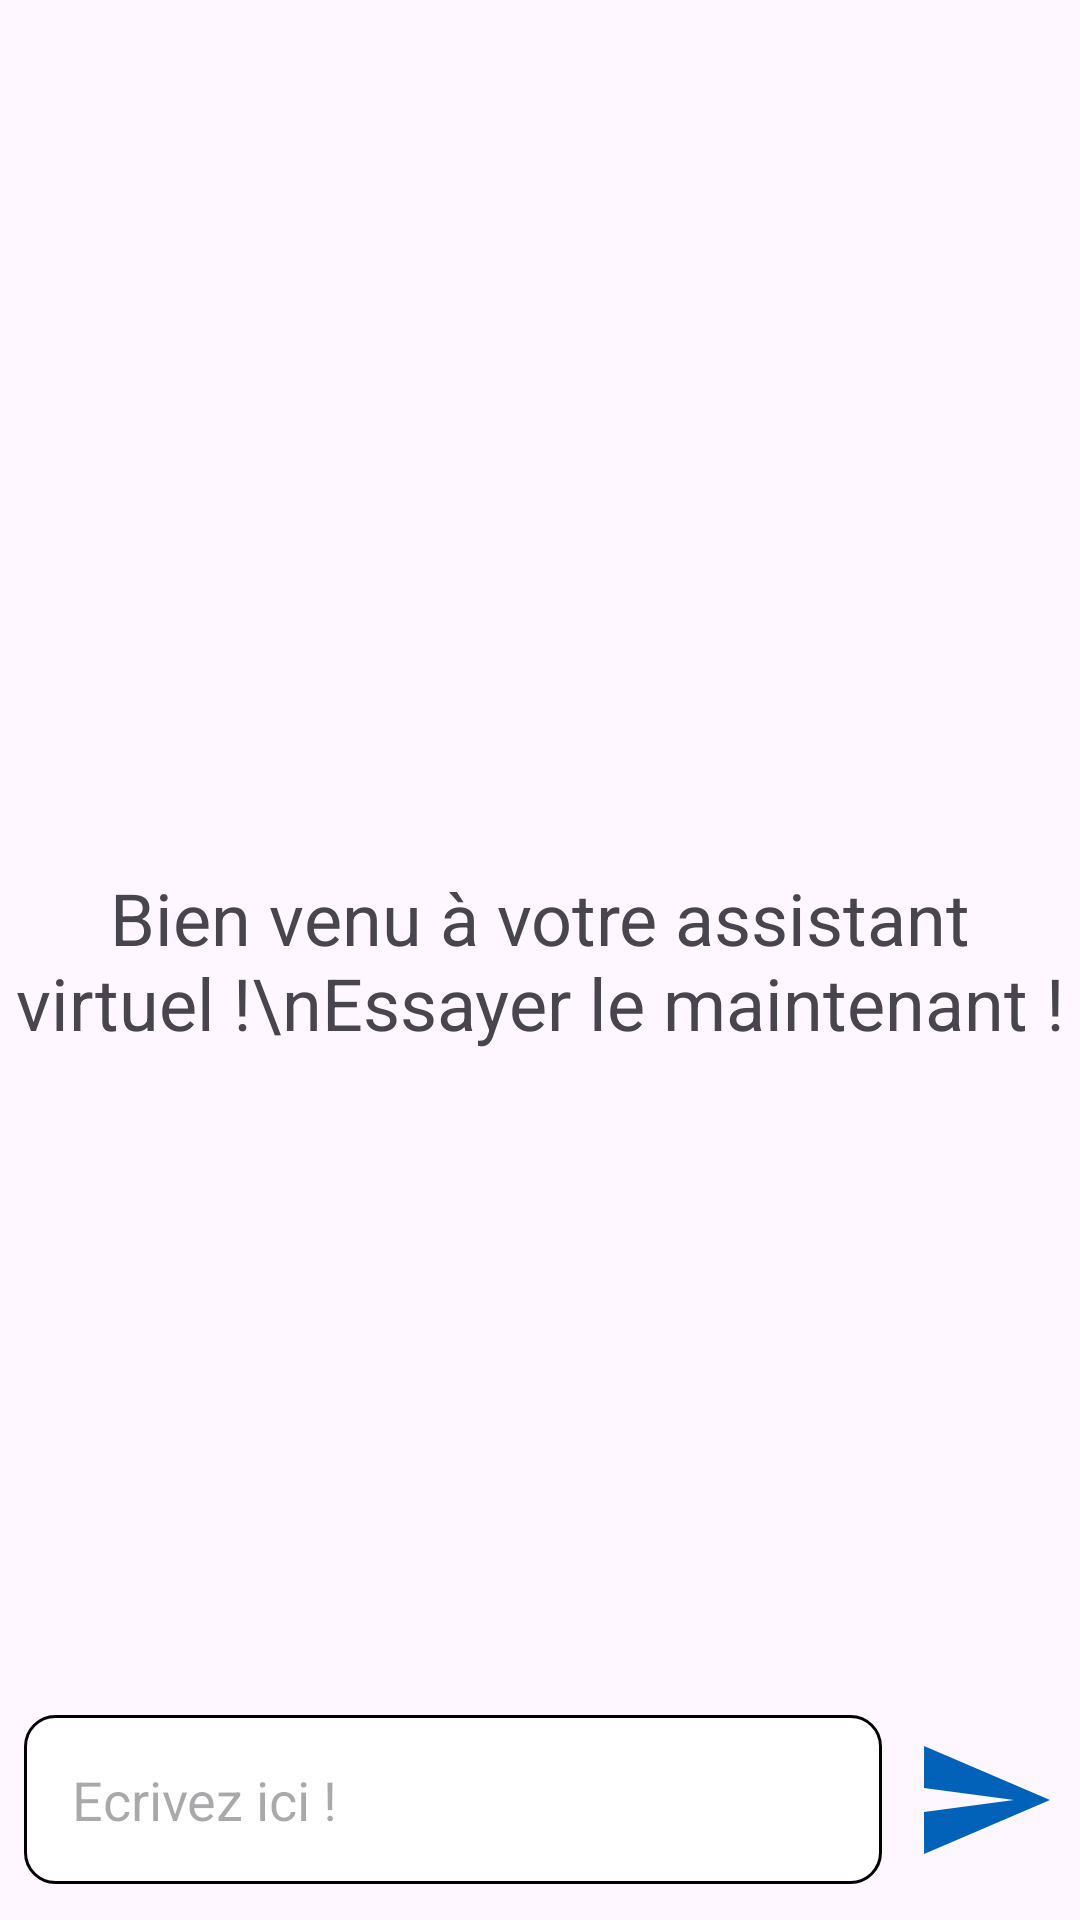

Icons on this 1080 x 1920 Android screen, each with its box as region(x1, y1, x2, y2):
send: region(924, 1746, 1050, 1854)
